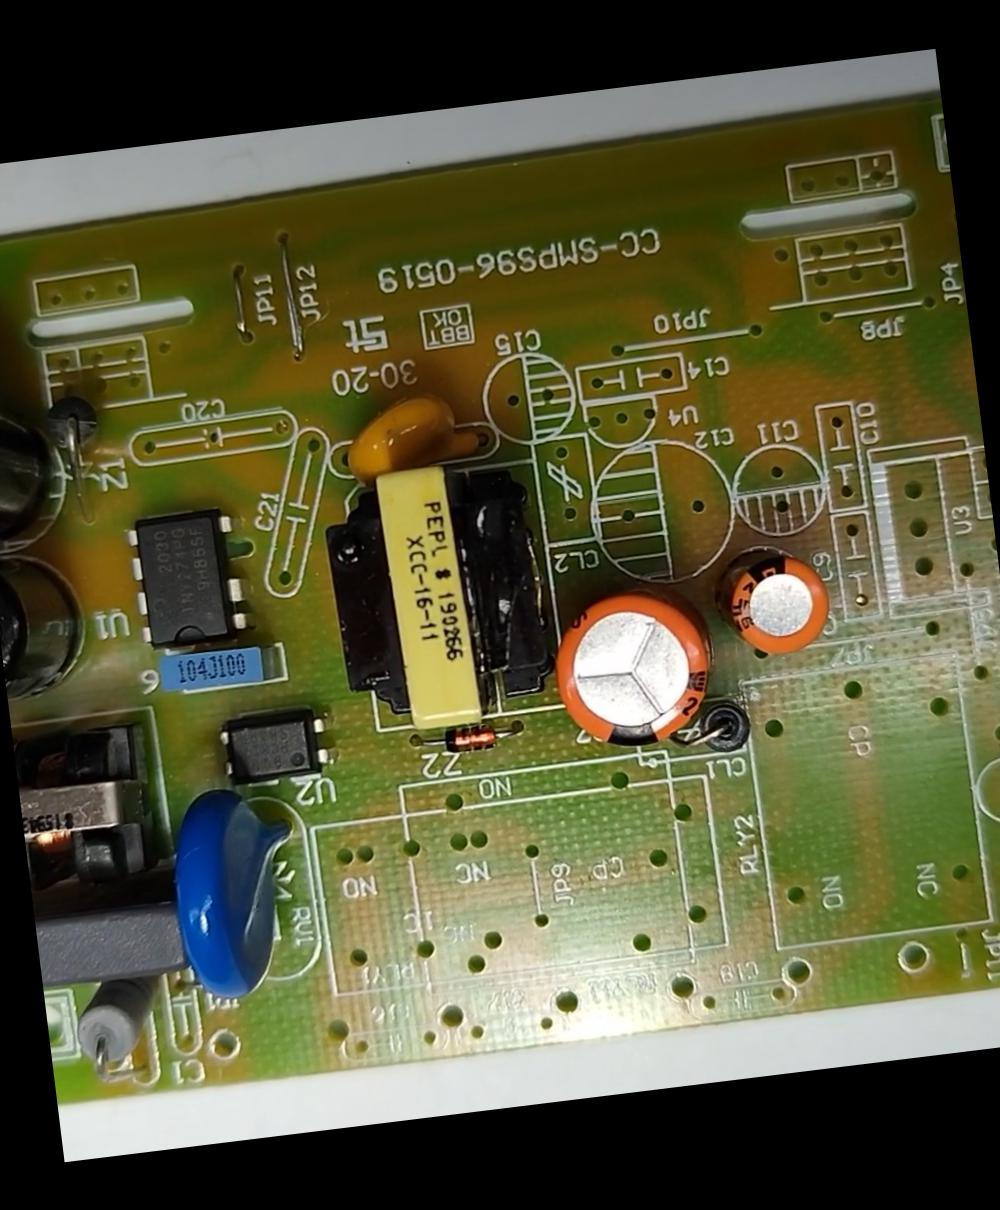Cap1: (553, 589, 723, 762)
Cap2: (709, 541, 840, 668)
Cap3: (0, 529, 103, 719)
Cap4: (0, 344, 84, 534)
MOSFET: (119, 501, 253, 654)
Mov: (158, 776, 314, 1010)
Resistor: (64, 966, 181, 1082)
Transformer: (316, 445, 566, 758), (11, 710, 155, 906)
